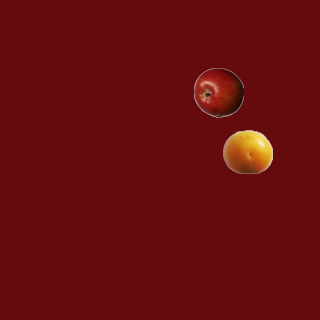Apple Braeburn: (193, 67, 243, 117)
Cherry Wax Yellow: (222, 126, 272, 176)
